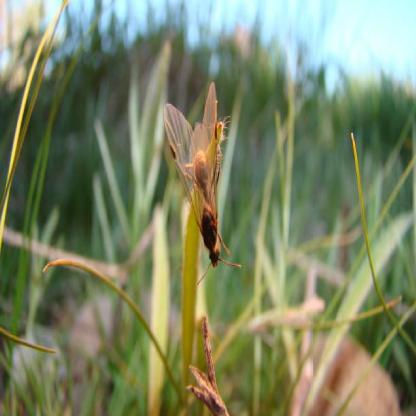sawfly: (164, 78, 242, 284)
